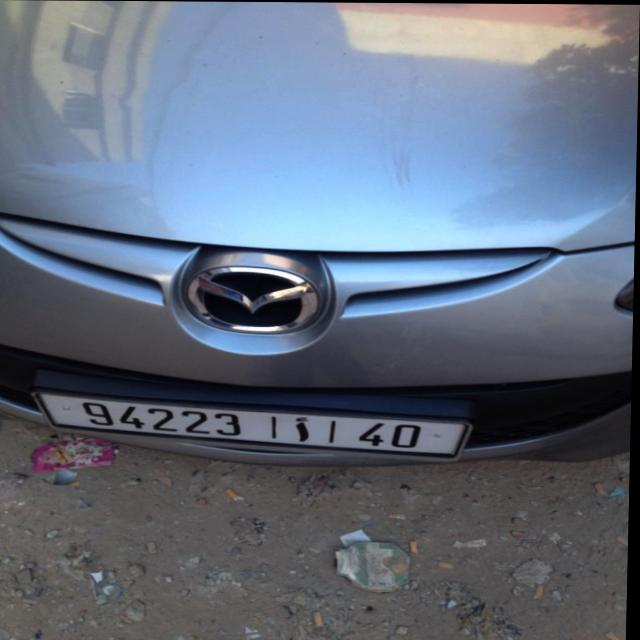License-Plate: (38, 392, 473, 457)
